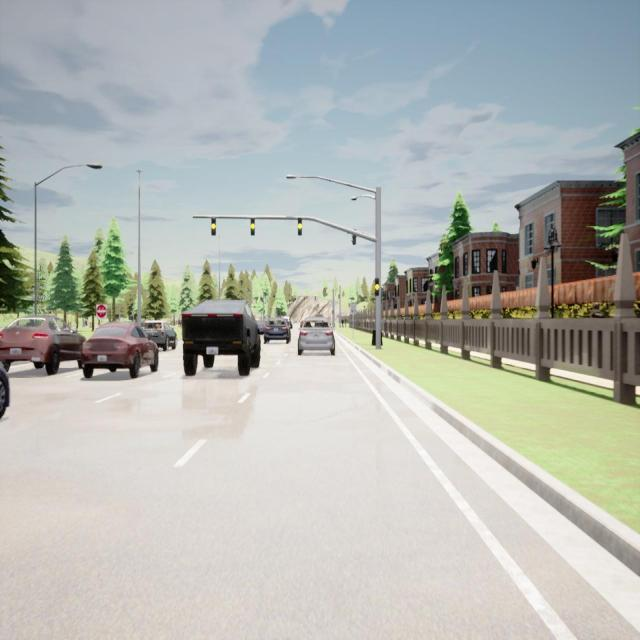Pedestrian: (586, 298, 605, 318), (340, 317, 344, 328), (345, 317, 347, 328)
Traffic_Signs: (96, 305, 107, 319), (350, 304, 356, 313)
Vehicle: (182, 300, 260, 376), (0, 316, 86, 376), (82, 322, 159, 379), (298, 316, 335, 356), (143, 320, 177, 351), (264, 318, 291, 344), (0, 363, 9, 422), (282, 316, 293, 329)
traffic_light: (211, 217, 216, 235), (297, 218, 302, 236), (250, 218, 255, 235), (351, 229, 356, 245), (375, 278, 379, 296)
